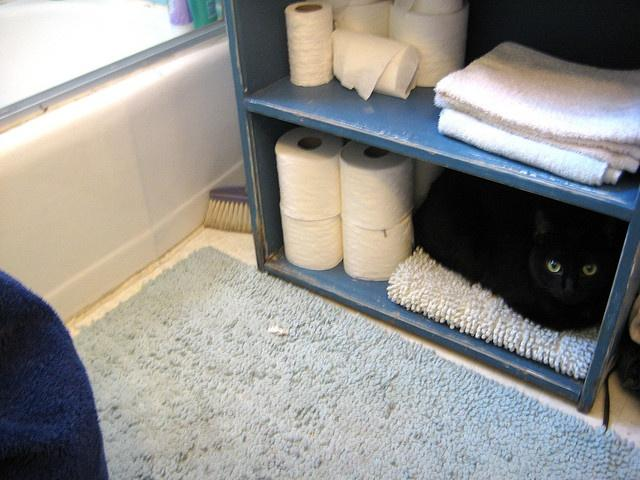Rak: (221, 0, 639, 413)
